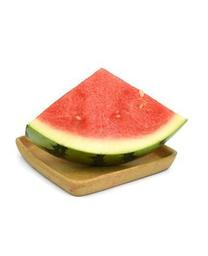watermelon: (26, 67, 192, 166)
